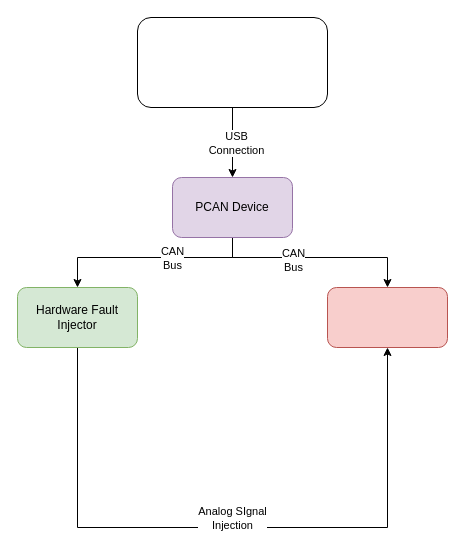
Some shapes in this 465 by 553 pixel diagram are drawn without their labels. Here are the shapes that lost their labels. From the top down, the box of each, then its label:
(136, 16, 328, 108): Automated Testing Software
(326, 286, 448, 348): Vehicle Controller
